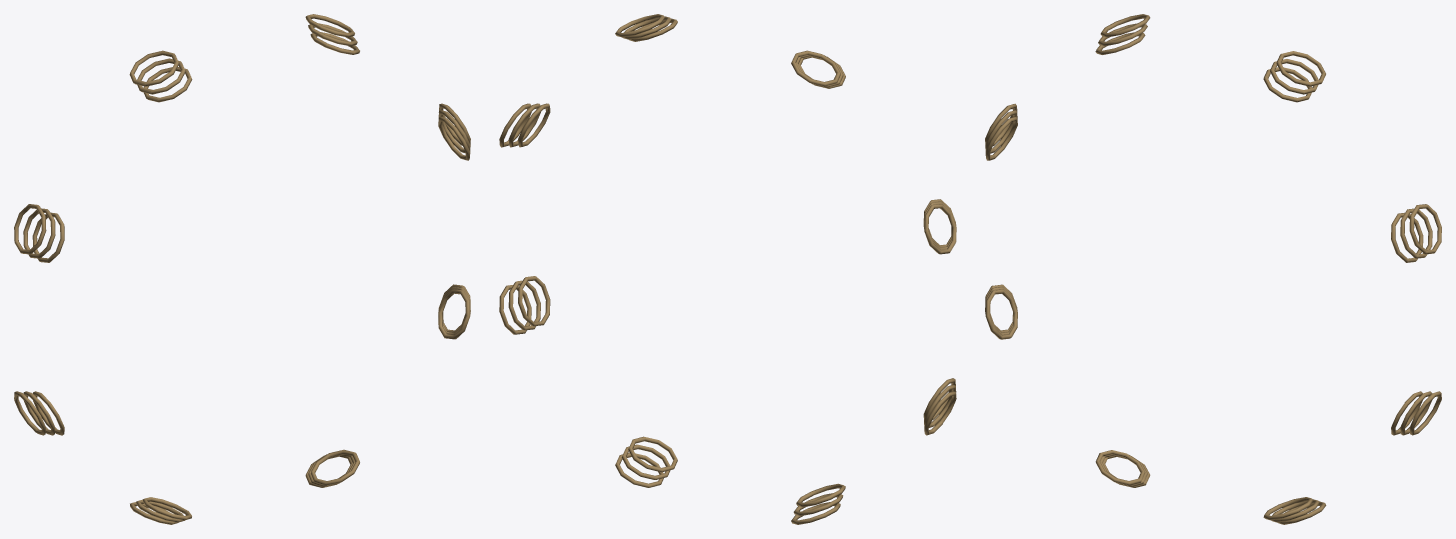
The model's file is k12_harness.obj.
3 views of the same model, side by side, from view 1: azimuth 30°, elevation 25°; view 2: azimuth 150°, elevation 25°; view 3: azimuth 330°, elevation 25° (orthographic).
Parts seen in each view (by area): view 1: k12_harness; view 2: k12_harness; view 3: k12_harness.
Boxes of the visible parts, x1,y1,x2,y2 form: k12_harness: [14, 14, 470, 524]; k12_harness: [499, 14, 956, 524]; k12_harness: [985, 14, 1441, 524].
Bounding box in the file's own units: 2.71 × 2.71 × 0.3608.
